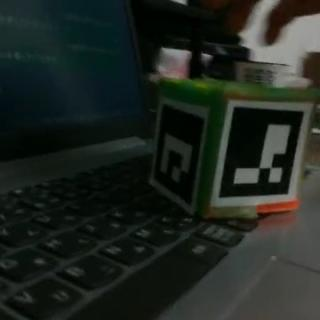armor: (210, 99, 314, 211), (150, 97, 210, 216)
robot: (146, 73, 320, 226)
